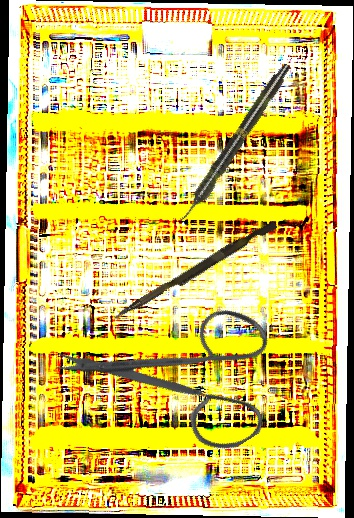Handpiece: (175, 60, 295, 226)
Iris Scissors: (48, 255, 309, 508)
Pusher: (112, 216, 278, 327)
